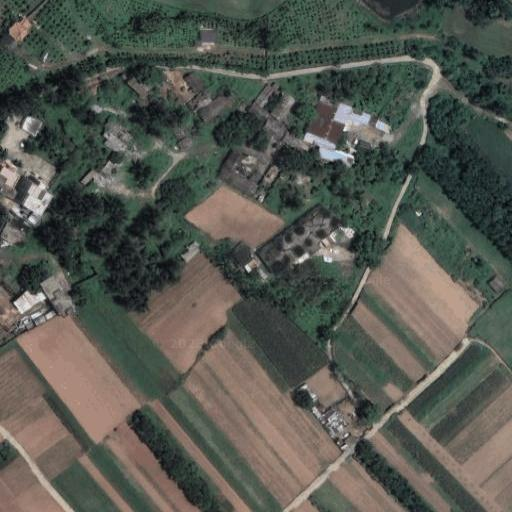building: (304, 95, 389, 170), (258, 201, 343, 274), (247, 93, 310, 156), (40, 275, 76, 318), (21, 184, 55, 218), (13, 283, 46, 315), (197, 94, 231, 122), (218, 149, 242, 181), (6, 18, 34, 44), (174, 237, 202, 263), (228, 172, 258, 195), (230, 242, 255, 267), (255, 84, 277, 108), (103, 129, 126, 151), (22, 116, 43, 137), (195, 24, 217, 43), (127, 77, 147, 96), (185, 72, 204, 91), (488, 276, 506, 295), (354, 139, 374, 155), (81, 170, 97, 186), (102, 138, 118, 153), (178, 136, 193, 151), (27, 212, 40, 225), (173, 127, 186, 139), (37, 182, 49, 192), (270, 81, 280, 91)
